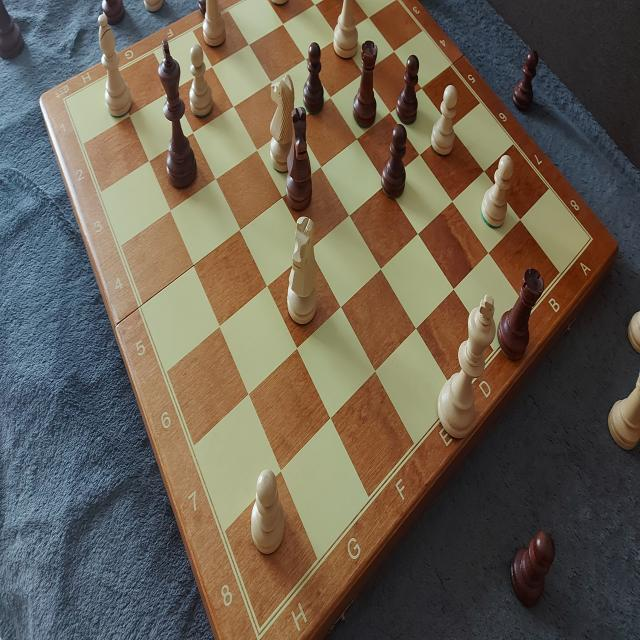chess-table-corners: (246, 594, 276, 640), (578, 222, 598, 256), (56, 88, 76, 119)
